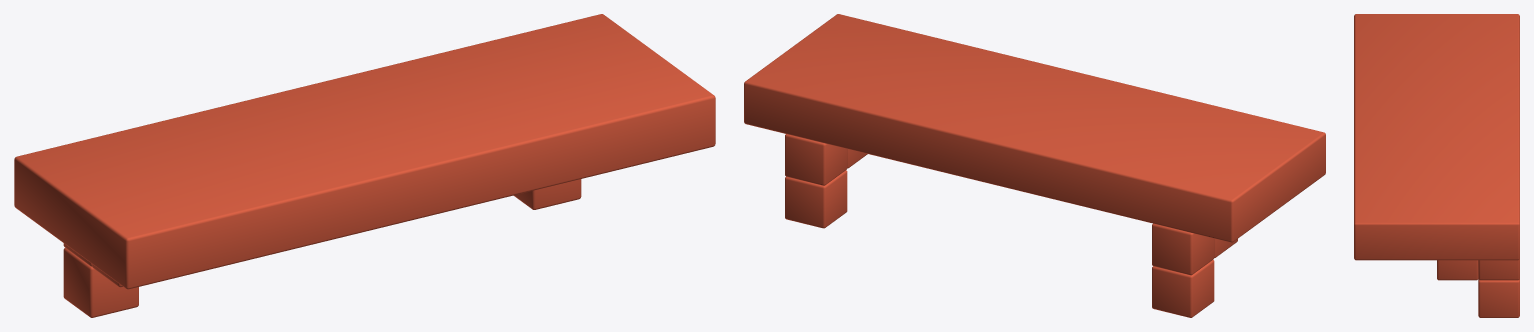
Rendered from Raf.fbx.
3 views of the same model, side by side, from view 1: azimuth 30°, elevation 25°; view 2: azimuth 150°, elevation 25°; view 3: azimuth 270°, elevation 25° (orthographic). The views are drawn at different scales.
Visible parts, largest first — view 1: Raf; view 2: Raf; view 3: Raf.
Boxes of the visible parts, box(x1,y1,x2,y2) form: Raf: box(14, 14, 715, 317); Raf: box(744, 14, 1325, 317); Raf: box(1354, 14, 1519, 317).
Size of the model in its own units: 1.2 by 0.3 by 0.4.
